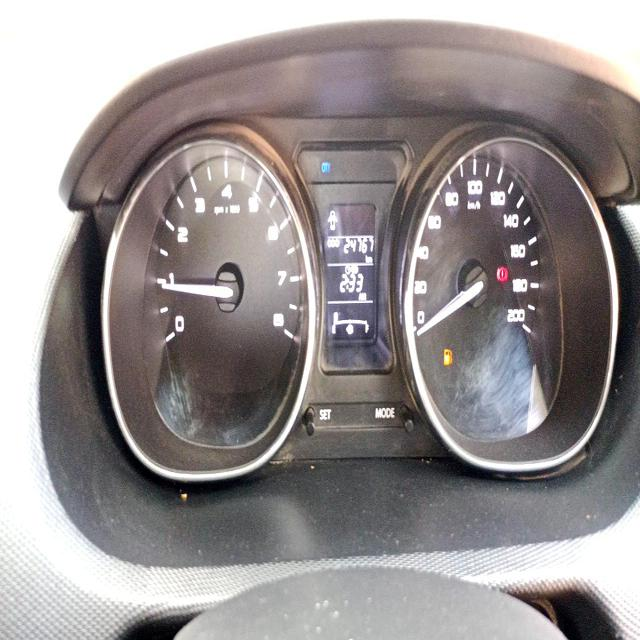odometer: (342, 236, 375, 256)
